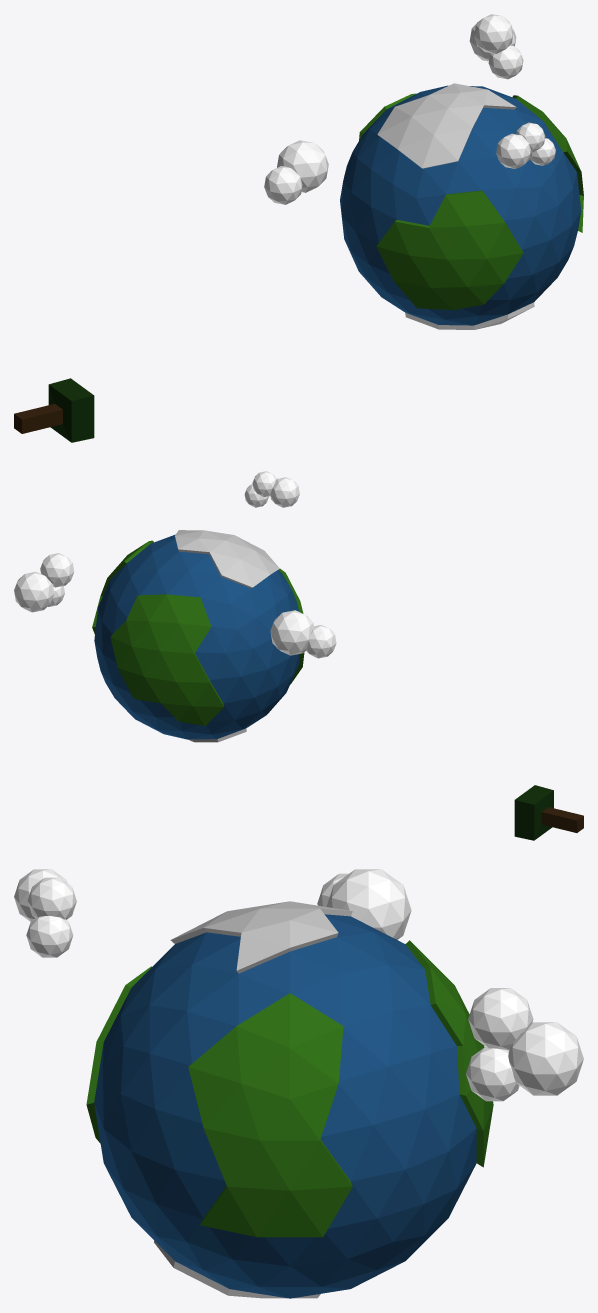
Rendered from Earth.dae.
3 renders of one model, top to bottom at view 1: azimuth 30°, elevation 25°; view 2: azimuth 150°, elevation 25°; view 3: azimuth 270°, elevation 25°, orthographic. The views are drawn at different scales.
Visible parts, largest first — view 1: a, Icosphere-001, Plane; view 2: a, Icosphere-001, Plane; view 3: a, Icosphere-001.
Part boxes in pixels (<box>): a: <box>340,83,583,329</box>; Icosphere-001: <box>264,14,555,204</box>; Plane: <box>14,378,94,442</box>; a: <box>92,530,304,742</box>; Icosphere-001: <box>14,471,336,658</box>; Plane: <box>514,785,583,840</box>; a: <box>86,901,493,1298</box>; Icosphere-001: <box>14,869,583,1101</box>.
Bounding box in the file's own units: 18.88 × 8.44 × 10.06.
